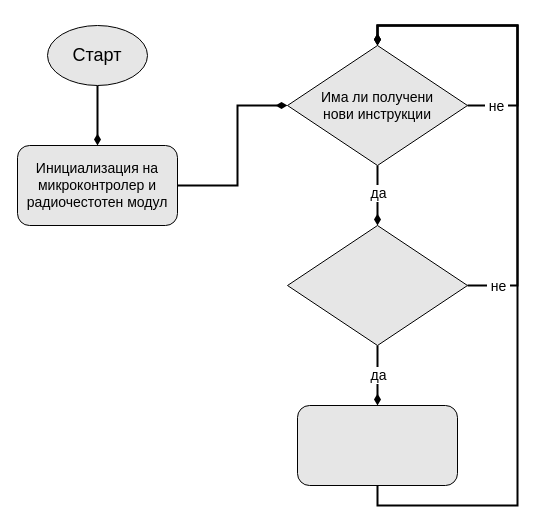
Image size: 544x531. Some labels were removed from this diagram. Here are the shapes that lost their labels. From the top down, the centre of each, then its label:
(377,285): Прочетени ли са успешно новите инструкции
(377,445): Изпълняват се новите инструкции
